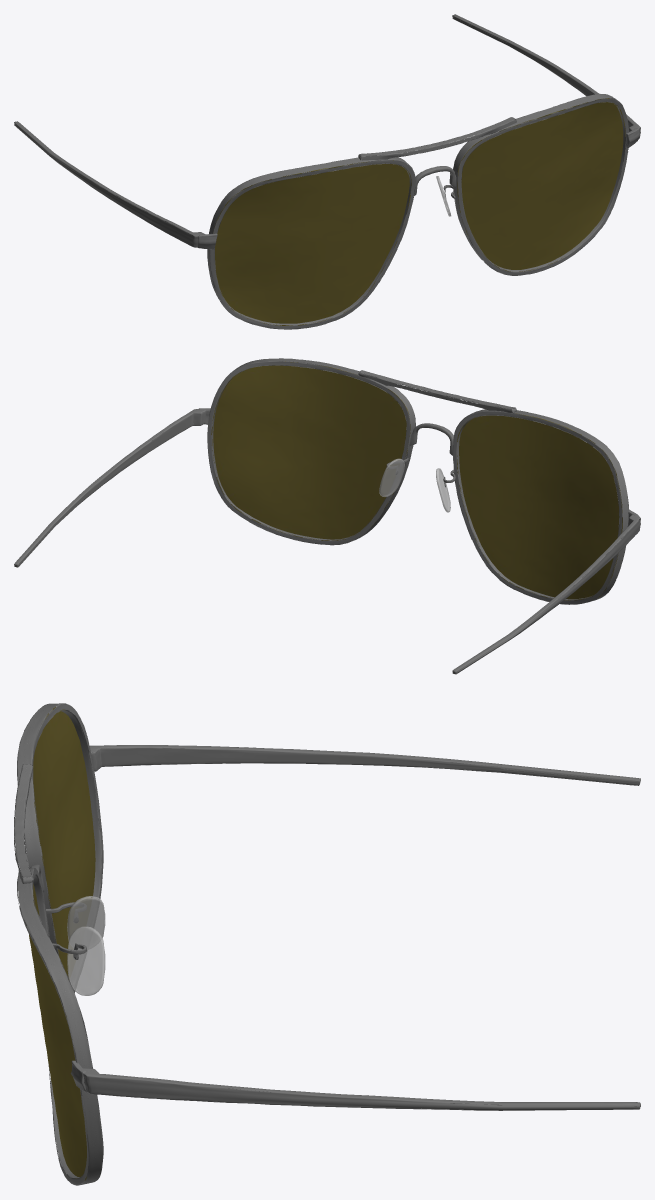
The model's file is chromance_GLB2.glb.
3 views of the same model, one above another, from view 1: azimuth 30°, elevation 25°; view 2: azimuth 150°, elevation 25°; view 3: azimuth 270°, elevation 25° (orthographic). The views are drawn at different scales.
Visible parts, largest first — view 1: chrmOBJ; view 2: chrmOBJ; view 3: chrmOBJ.
Boxes of the visible parts, <box> form: chrmOBJ: <box>14,14,640,329</box>; chrmOBJ: <box>14,358,640,674</box>; chrmOBJ: <box>14,703,640,1185</box>.
Size of the model in its own units: 0.1572 by 0.0547 by 0.1203.
3 materials, 3 textured.
